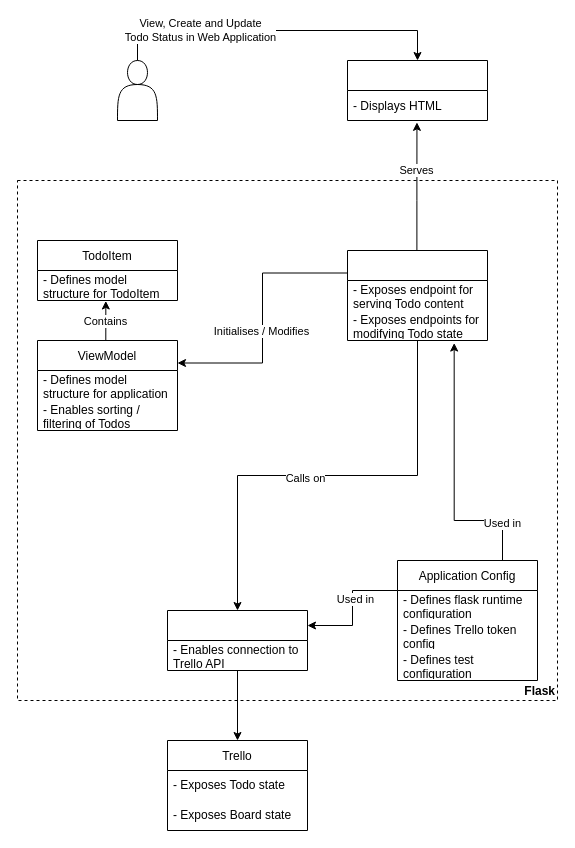
The diagram is 575 pixels wide and 848 high, and some of its shapes have lost their labels. The box of each missing label's shape, as (x1, y1, x2, y2) in pixels:
App: (346, 250, 488, 340)
Browser: (346, 60, 488, 120)
TrelloClient: (166, 610, 308, 670)
